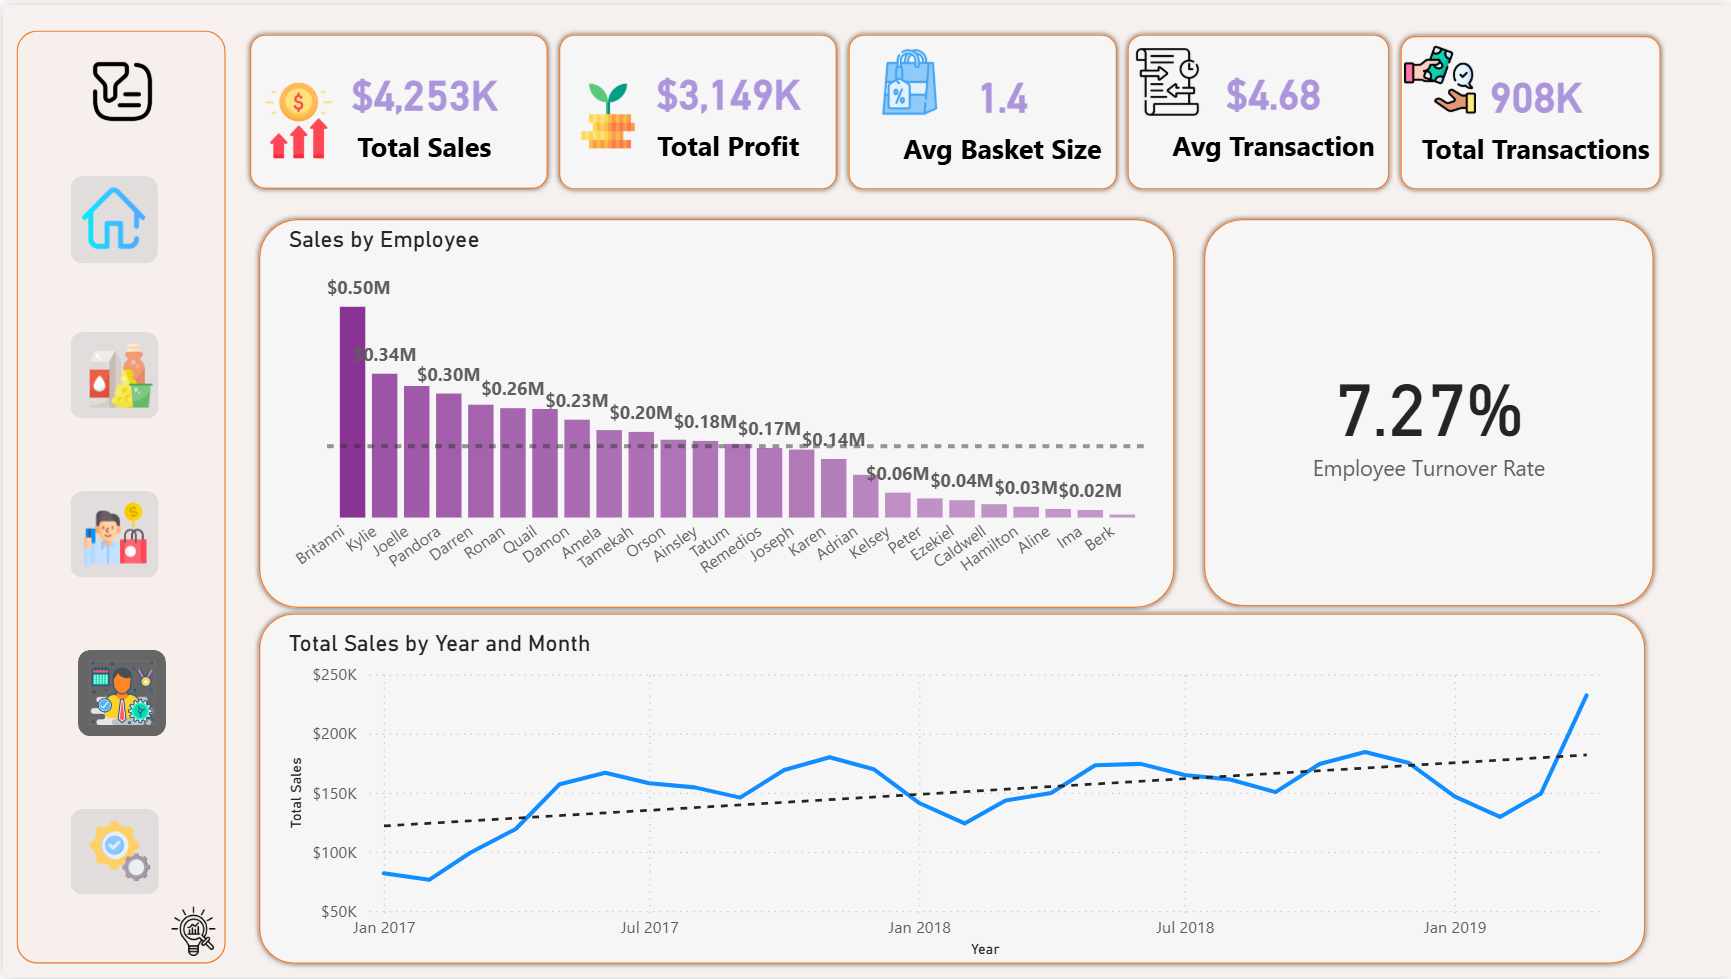

The dashboard page shown, as its layout file describes it:
{"tool":"powerbi","page":{"name":"Employee","canvas":[1280,720],"ordinal":3},"visuals":[{"type":"card","fields":{"Values":["DAX.Total Sales"]},"box":[217.8,17.8,188.9,116.7],"z":0,"group":"g1"},{"type":"shape","title":"Nav BG","box":[10,18.8,155,691.2],"z":0,"group":"g2"},{"type":"group","id":"g1","title":"Page1","box":[178.8,17.5,1053.1,696.9],"z":1000},{"type":"shape","box":[178.8,17.5,228.8,122.5],"z":1000,"group":"g1"},{"type":"image","title":"Filter_Img","box":[58.9,34.2,58.9,59],"z":1000,"group":"g2"},{"type":"shape","box":[408,18,214,123],"z":2000,"group":"g1"},{"type":"group","id":"g2","title":"Nav","box":[10,18.8,155,691.2],"z":2000},{"type":"shape","title":"operation_bg","box":[49.9,595.2,65.6,63.2],"z":2000,"group":"g2"},{"type":"shape","box":[622,18,207,123],"z":3000,"group":"g1"},{"type":"card","fields":{"Values":["DAX.Employee Turnover Rate"]},"box":[897.5,176.2,316.2,253.8],"z":3000},{"type":"shape","title":"Emp_bg","box":[55.9,477.6,65.1,63.9],"z":3000,"group":"g2"},{"type":"shape","box":[829,18,202,123],"z":4000,"group":"g1"},{"type":"shape","title":"Customer_bg","box":[49.9,359.9,65.4,64.3],"z":4000,"group":"g2"},{"type":"lineChart","fields":{"Y":["DAX.Total Sales"],"Category":["Calendar.Transaction_Date.Variation.Date Hierarchy.Year","Calendar.Transaction_Date.Variation.Date Hierarchy.Month"]},"box":[206.2,462.5,995,247.5],"z":4000},{"type":"shape","box":[1031,18.2,200.9,121.8],"z":5000,"group":"g1"},{"type":"shape","title":"Home_bg","box":[49.9,126.8,64.8,64.9],"z":5000,"group":"g2"},{"type":"image","box":[117.5,661.2,46.2,50],"z":5000},{"type":"card","fields":{"Values":["DAX.Total Sales"]},"box":[218,21,188,114],"z":6000,"group":"g1"},{"type":"shape","title":"Product_bg","box":[49.9,242.4,65.4,64.3],"z":6000,"group":"g2"},{"type":"card","fields":{"Values":["DAX.Total Profit"]},"box":[459,21,156,113],"z":7000,"group":"g1"},{"type":"image","title":"Operation_img","box":[57.9,598.2,57.6,57.7],"z":7000,"group":"g2"},{"type":"card","fields":{"Values":["DAX.Average Basket Size"]},"box":[660,24,160,111],"z":8000,"group":"g1"},{"type":"image","title":"Customer_img","box":[54.1,363.5,57.3,57.4],"z":8000,"group":"g2"},{"type":"card","fields":{"Values":["DAX.Average Transaction Value"]},"box":[853,21,175,113],"z":9000,"group":"g1"},{"type":"image","title":"Product_img","box":[58.6,245.5,57.3,58.6],"z":9000,"group":"g2"},{"type":"card","fields":{"Values":["DAX.Total Number of Transactions"]},"box":[1037.3,23.6,194.5,110.9],"z":10000,"group":"g1"},{"type":"image","title":"Emp_img","box":[58.6,480.2,58.6,58.6],"z":10000,"group":"g2"},{"type":"image","box":[185,52,66,67],"z":11000,"group":"g1"},{"type":"image","title":"Home_img","box":[53.6,128.7,57.3,57.4],"z":11000,"group":"g2"},{"type":"image","box":[419,52,58,60],"z":12000,"group":"g1"},{"type":"actionButton","title":"Home_Btn","box":[49.9,126.6,64.8,64.9],"z":12000,"group":"g2"},{"type":"image","box":[640,26,63,60],"z":13000,"group":"g1"},{"type":"actionButton","title":"Filter_btn","box":[58.9,33.6,58.8,58.9],"z":13000,"group":"g2"},{"type":"image","box":[1031,22.7,66.4,63.6],"z":14000,"group":"g1"},{"type":"actionButton","title":"Product_Btn","box":[49.9,242.1,64.8,64.9],"z":14000,"group":"g2"},{"type":"image","box":[829.1,26.4,67.3,60],"z":15000,"group":"g1"},{"type":"actionButton","title":"Emp_Btn","box":[55.9,477.6,64.8,64.9],"z":15000,"group":"g2"},{"type":"shape","box":[185.4,154.4,686.2,296.2],"z":16000,"group":"g1"},{"type":"actionButton","title":"Customer_Btn","box":[49.9,359.9,64.8,64.9],"z":16000,"group":"g2"},{"type":"clusteredColumnChart","title":"Sales by Employee","fields":{"Category":["Employee Lookup.first_name"],"Y":["DAX.Total Sales"]},"box":[206.6,163.1,646.2,280],"z":17000,"group":"g1"},{"type":"actionButton","title":"Operation_Btn","box":[49.9,594.4,64.8,64.9],"z":17000,"group":"g2"},{"type":"shape","box":[185.4,446.9,1035,267.5],"z":18000,"group":"g1"},{"type":"shape","box":[885.4,154.4,341.2,295],"z":19000,"group":"g1"}]}

Visuals, with their boxes in screenshot pixels (x1, y1, x2, y2), scaled from the page's 1280x720 canvas onto the 1731x979 screenshot:
card - DAX.Total Sales: (295,24,550,183)
"Nav BG" shape: (14,26,223,965)
"Page1" group: (242,24,1666,971)
shape: (242,24,551,190)
"Filter_Img" image: (80,47,159,127)
shape: (552,24,841,192)
"Nav" group: (14,26,223,965)
"operation_bg" shape: (67,809,156,895)
shape: (841,24,1121,192)
card - DAX.Employee Turnover Rate: (1214,240,1641,585)
"Emp_bg" shape: (76,649,164,736)
shape: (1121,24,1394,192)
"Customer_bg" shape: (67,489,156,577)
lineChart - DAX.Total Sales x Calendar.Transaction_Date.Variation.Date Hierarchy.Year: (279,629,1624,965)
shape: (1394,25,1666,190)
"Home_bg" shape: (67,172,155,261)
image: (159,899,221,967)
card - DAX.Total Sales: (295,29,549,184)
"Product_bg" shape: (67,330,156,417)
card - DAX.Total Profit: (621,29,832,182)
"Operation_img" image: (78,813,156,892)
card - DAX.Average Basket Size: (893,33,1109,184)
"Customer_img" image: (73,494,151,572)
card - DAX.Average Transaction Value: (1154,29,1390,182)
"Product_img" image: (79,334,157,413)
card - DAX.Total Number of Transactions: (1403,32,1666,183)
"Emp_img" image: (79,653,158,733)
image: (250,71,339,162)
"Home_img" image: (72,175,150,253)
image: (567,71,645,152)
"Home_Btn" actionButton: (67,172,155,260)
image: (866,35,951,117)
"Filter_btn" actionButton: (80,46,159,126)
image: (1394,31,1484,117)
"Product_Btn" actionButton: (67,329,155,417)
image: (1121,36,1212,117)
"Emp_Btn" actionButton: (76,649,163,738)
shape: (251,210,1179,613)
"Customer_Btn" actionButton: (67,489,155,578)
"Sales by Employee" clusteredColumnChart: (279,222,1153,602)
"Operation_Btn" actionButton: (67,808,155,896)
shape: (251,608,1650,971)
shape: (1197,210,1659,611)
